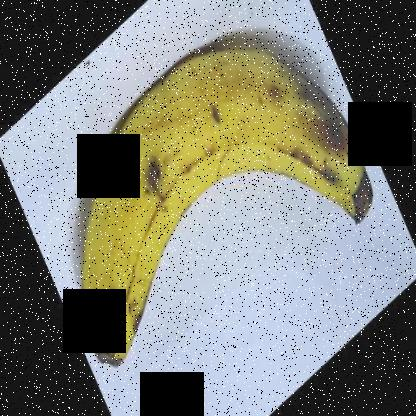ripe: (76, 17, 383, 375)
